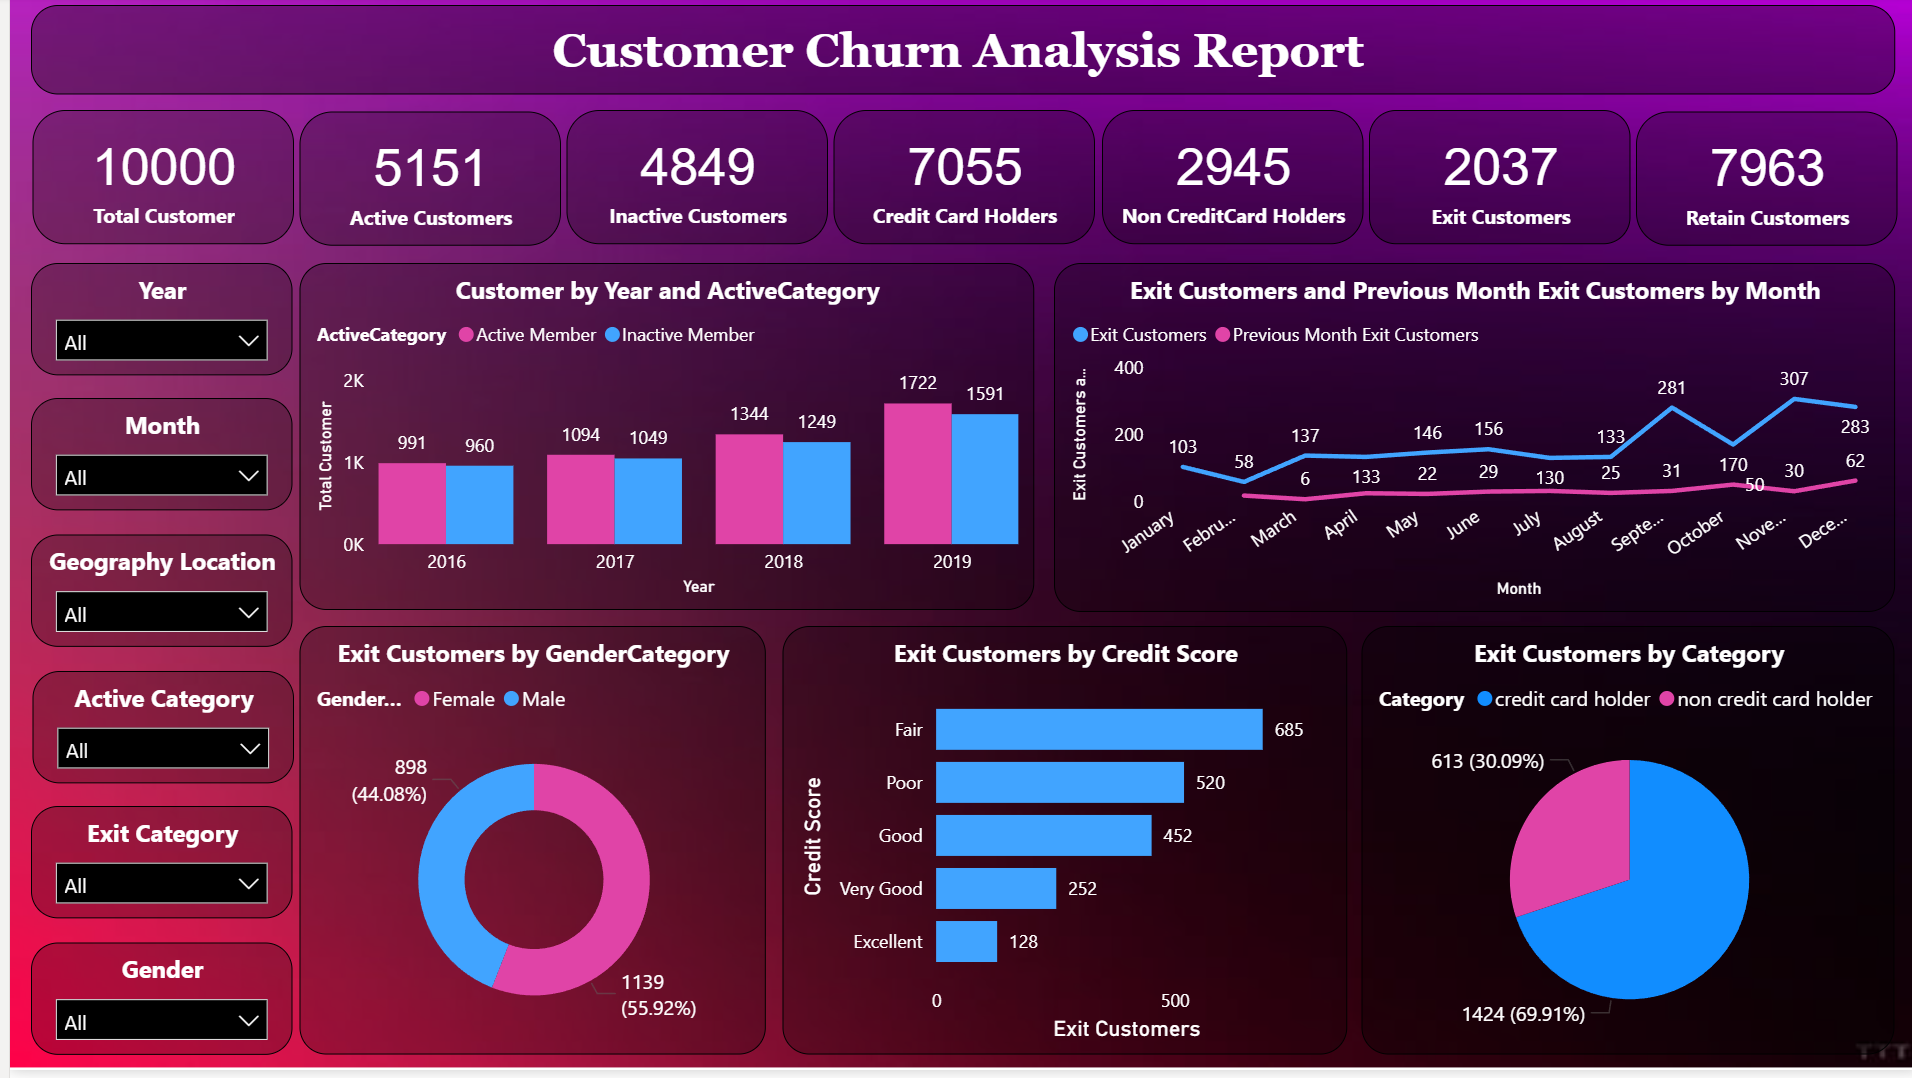

Layout of this report page (visuals, bound fields, positions):
{"tool":"powerbi","page":{"name":"Page 1","canvas":[1280,720],"ordinal":0},"visuals":[{"type":"slicer","title":"Month","fields":{"Values":["Date Master.Month"]},"box":[13.8,269.9,175,75.5],"z":0},{"type":"textbox","box":[13.8,6.2,1250,60],"z":1000},{"type":"card","title":"Total Customers","fields":{"Values":["Calculation.Total Customer"]},"box":[15,76.2,175,90],"z":2000,"group":"g1"},{"type":"slicer","title":"Year","fields":{"Values":["Date Master.Year"]},"box":[13.8,178.8,175,75.5],"z":2000},{"type":"group","id":"g1","title":"Group 1","box":[15,76.2,1250,91.2],"z":3000},{"type":"card","title":"Active Customers","fields":{"Values":["Calculation.Active Customer"]},"box":[194.2,77.4,175,90],"z":4000,"group":"g1"},{"type":"slicer","title":"Exit Category","fields":{"Values":["Exit Customer.ExitCategory"]},"box":[13.8,543.3,175,75.5],"z":4000},{"type":"card","title":"Non Credit Card Holders","fields":{"Values":["Calculation.Non CreditCard Holders"]},"box":[731.7,76.2,175,90],"z":5000,"group":"g1"},{"type":"slicer","title":"Active Category","fields":{"Values":["ActiveCustomer.ActiveCategory"]},"box":[15,452.2,175,75.5],"z":5000},{"type":"card","title":"Credit Card Holders","fields":{"Values":["Calculation.CreditCard Holder"]},"box":[552.5,76.2,175,90],"z":6000,"group":"g1"},{"type":"slicer","title":"Geography Location","fields":{"Values":["Geography.GeographyLocation"]},"box":[13.8,361,175,75.5],"z":6000},{"type":"card","title":"Inactive Customers","fields":{"Values":["Calculation.Inactive Customers"]},"box":[373.3,76.2,175,90],"z":7000,"group":"g1"},{"type":"slicer","title":"Gender","fields":{"Values":["Gender.GenderCategory"]},"box":[13.8,634.5,175,75.5],"z":7000},{"type":"card","title":"Retain Customers","fields":{"Values":["Calculation.Retain Customers"]},"box":[1090,77.4,175,90],"z":8000,"group":"g1"},{"type":"clusteredColumnChart","title":"Customer by Year and ActiveCategory","fields":{"Category":["Date Master.Year","Date Master.Month"],"Y":["Calculation.Total Customer"],"Series":["ActiveCustomer.ActiveCategory"]},"box":[193.8,178.8,492.5,232.5],"z":8000},{"type":"card","title":"Exit Customers","fields":{"Values":["Calculation.Exit Customers"]},"box":[910.8,76.2,175,90],"z":9000,"group":"g1"},{"type":"lineChart","fields":{"Category":["Date Master.Month"],"Y":["Calculation.Exit Customers","Calculation.Previous Month Exit Customers"]},"box":[700,178.8,563.8,233.8],"z":9000},{"type":"donutChart","fields":{"Y":["Calculation.Exit Customers"],"Category":["Gender.GenderCategory"]},"box":[193.8,422.5,312.5,287.5],"z":10000},{"type":"clusteredBarChart","fields":{"Y":["Calculation.Exit Customers"],"Category":["Bank_Churn.Credit Score"]},"box":[517.5,422.5,378.8,287.5],"z":11000},{"type":"pieChart","fields":{"Y":["Calculation.Exit Customers"],"Category":["CreditCard.Category"]},"box":[906.2,422.5,357.5,287.5],"z":13000}]}

Visuals, with their boxes in screenshot pixels (x1, y1, x2, y2), scaled from the page's 1280x720 canvas onto the 1912x1078 screenshot:
"Month" slicer: <box>21,404,282,517</box>
textbox: <box>21,9,1888,99</box>
"Total Customers" card: <box>22,114,284,249</box>
"Year" slicer: <box>21,268,282,381</box>
"Group 1" group: <box>22,114,1890,251</box>
"Active Customers" card: <box>290,116,551,251</box>
"Exit Category" slicer: <box>21,813,282,926</box>
"Non Credit Card Holders" card: <box>1093,114,1354,249</box>
"Active Category" slicer: <box>22,677,284,790</box>
"Credit Card Holders" card: <box>825,114,1087,249</box>
"Geography Location" slicer: <box>21,540,282,654</box>
"Inactive Customers" card: <box>558,114,819,249</box>
"Gender" slicer: <box>21,950,282,1063</box>
"Retain Customers" card: <box>1628,116,1890,251</box>
"Customer by Year and ActiveCategory" clusteredColumnChart: <box>289,268,1025,616</box>
"Exit Customers" card: <box>1361,114,1622,249</box>
lineChart - Date Master.Month x Calculation.Exit Customers: <box>1046,268,1888,618</box>
donutChart - Calculation.Exit Customers x Gender.GenderCategory: <box>289,633,756,1063</box>
clusteredBarChart - Calculation.Exit Customers x Bank_Churn.Credit Score: <box>773,633,1339,1063</box>
pieChart - Calculation.Exit Customers x CreditCard.Category: <box>1354,633,1888,1063</box>
